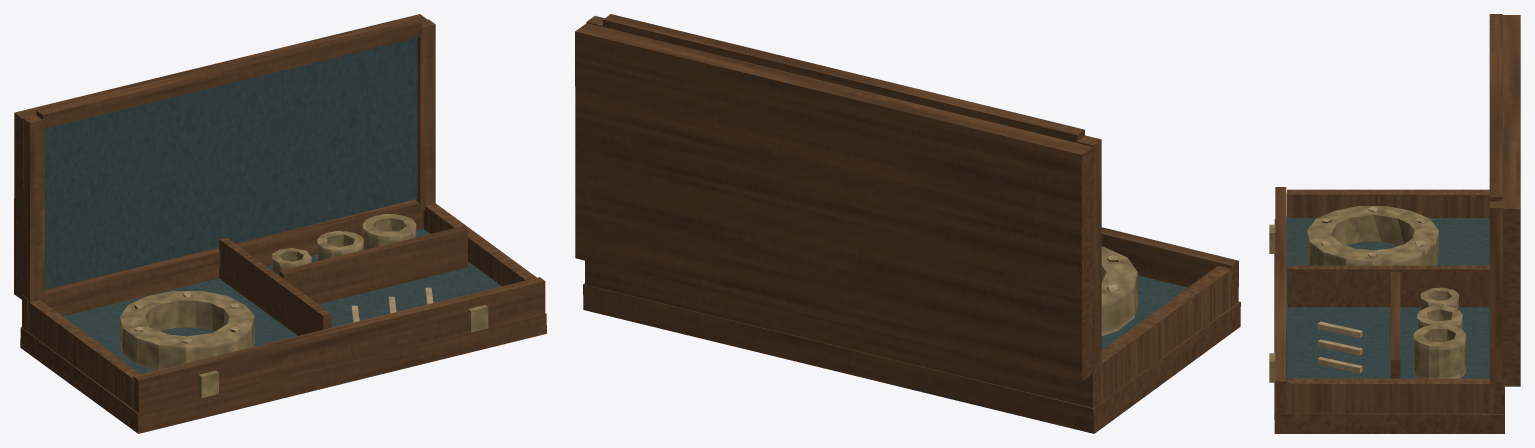
File: AssemblyPartsCase_LOD2.fbx
The picture shows the model from 3 angles, left to right: view 1: azimuth 30°, elevation 25°; view 2: azimuth 150°, elevation 25°; view 3: azimuth 270°, elevation 25°; orthographic projection. The views are drawn at different scales.
Visible parts, largest first — view 1: AssemblyPartsCase.001; view 2: AssemblyPartsCase.001; view 3: AssemblyPartsCase.001.
Part boxes in pixels (box(x1,y1,x2,y2)): AssemblyPartsCase.001: box(14, 14, 546, 433); AssemblyPartsCase.001: box(575, 14, 1240, 433); AssemblyPartsCase.001: box(1269, 14, 1520, 433).
Size of the model in its own units: 0.9434 by 0.5172 by 0.5114.
1 material, 1 textured.
